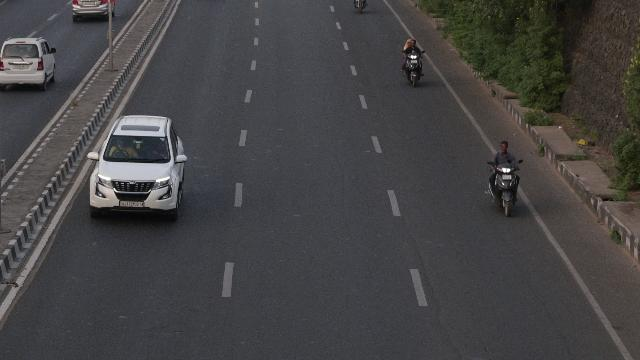Without Helmet: (497, 138, 511, 152), (411, 40, 417, 47), (406, 38, 410, 46)
